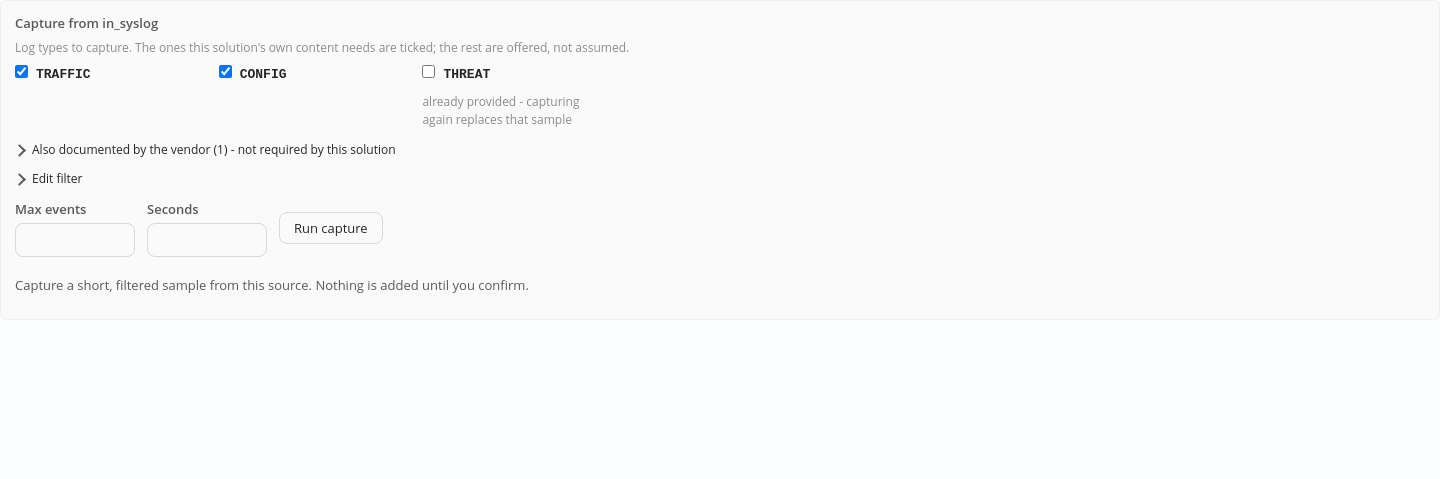
Test: CapturePanel - nothing enters the store without a click › names what a commit would REPLACE, on the row and beside the button
Click the button with class "run-button": [331, 228] box x1=279 y1=212 x2=383 y2=244
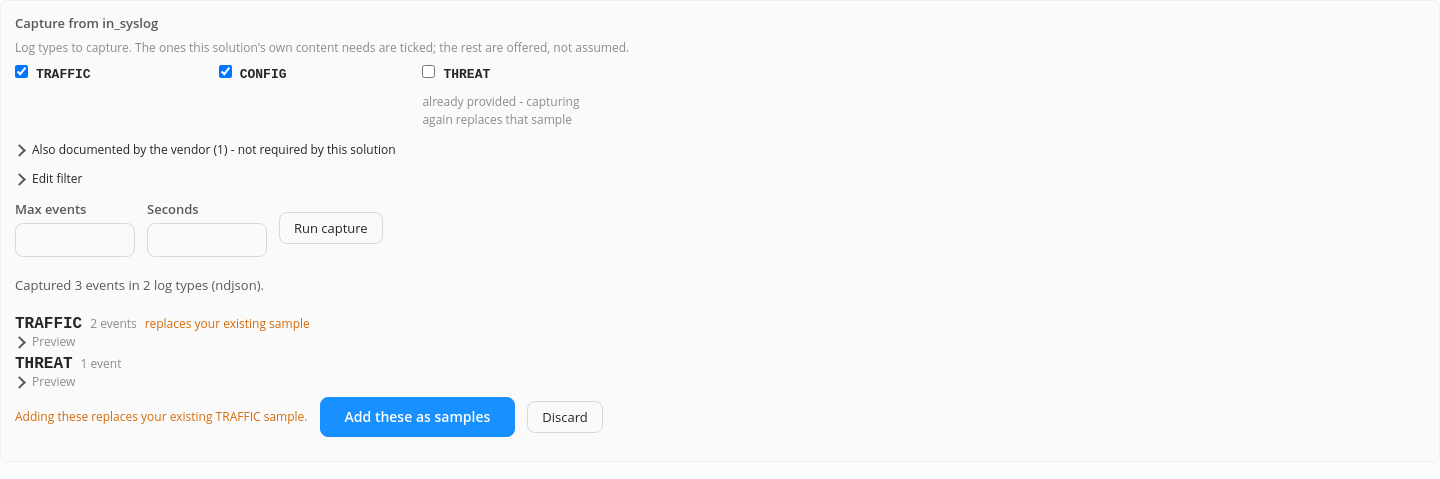
Check: the number of elements with class "capture-replaces" is 2, box x1=145 y1=315 x2=310 y2=333; x1=15 y1=408 x2=308 y2=426
Check: the list item "TRAFFIC 2 events replaces your existing sample Preview" is shown, box x1=15 y1=315 x2=310 y2=350
Check: the text with class "capture-replaces" reads "Adding these replaces your existing TRAFFIC sample.", box x1=15 y1=408 x2=308 y2=426
